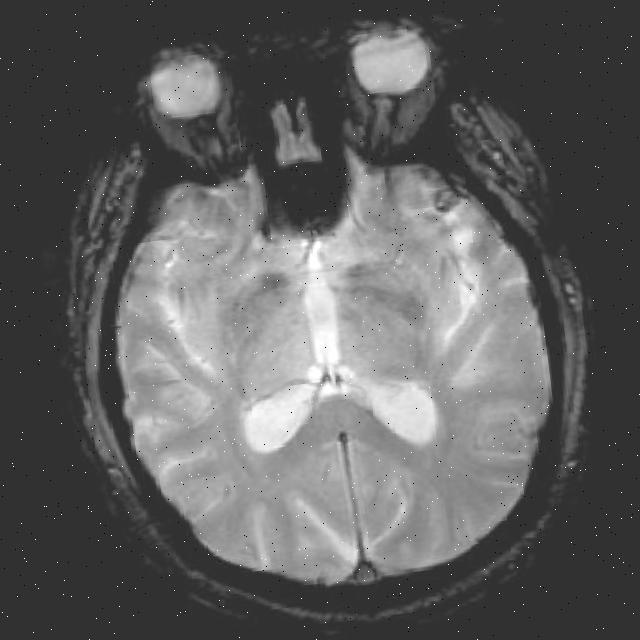CN: (336, 232, 420, 324), (216, 250, 306, 320)
